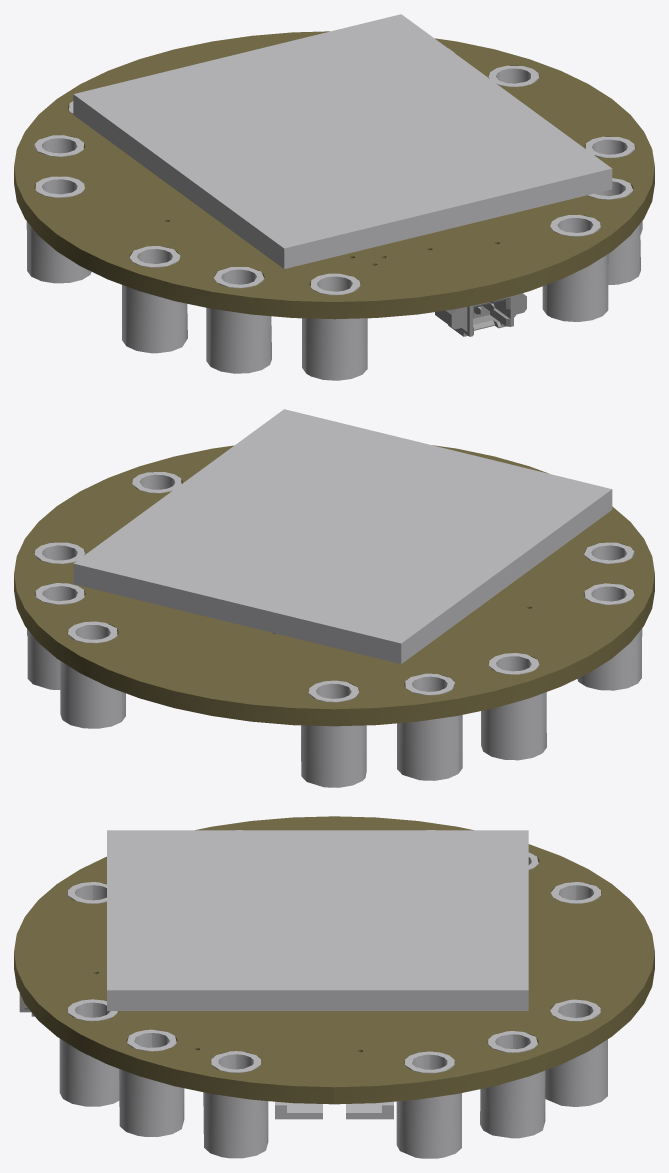
File: ada-4367.glb
3 views of the same model, one above another, from view 1: azimuth 30°, elevation 25°; view 2: azimuth 150°, elevation 25°; view 3: azimuth 270°, elevation 25° (orthographic).
Visible parts, largest first — view 1: 0.5833333333333334_0.5833333333333334_0.5833333333333334_0.8, 0.16666666666666666_0.16666666666666666_0.08333333333333333_, 0.3333333333333333_0.3333333333333333_0.3333333333333333_0; view 2: 0.5833333333333334_0.5833333333333334_0.5833333333333334_0.8, 0.16666666666666666_0.16666666666666666_0.08333333333333333_; view 3: 0.5833333333333334_0.5833333333333334_0.5833333333333334_0.8, 0.16666666666666666_0.16666666666666666_0.08333333333333333_.
Boxes of the visible parts, bbox=[...] form: 0.5833333333333334_0.5833333333333334_0.5833333333333334_0.8: bbox=[26, 14, 642, 380]; 0.16666666666666666_0.16666666666666666_0.08333333333333333_: bbox=[14, 31, 654, 319]; 0.3333333333333333_0.3333333333333333_0.3333333333333333_0: bbox=[435, 293, 526, 336]; 0.5833333333333334_0.5833333333333334_0.5833333333333334_0.8: bbox=[27, 409, 642, 787]; 0.16666666666666666_0.16666666666666666_0.08333333333333333_: bbox=[14, 445, 654, 726]; 0.5833333333333334_0.5833333333333334_0.5833333333333334_0.8: bbox=[59, 830, 607, 1158]; 0.16666666666666666_0.16666666666666666_0.08333333333333333_: bbox=[14, 816, 654, 1104].
Size of the model in its own units: 5.33 by 1.14 by 5.33.
